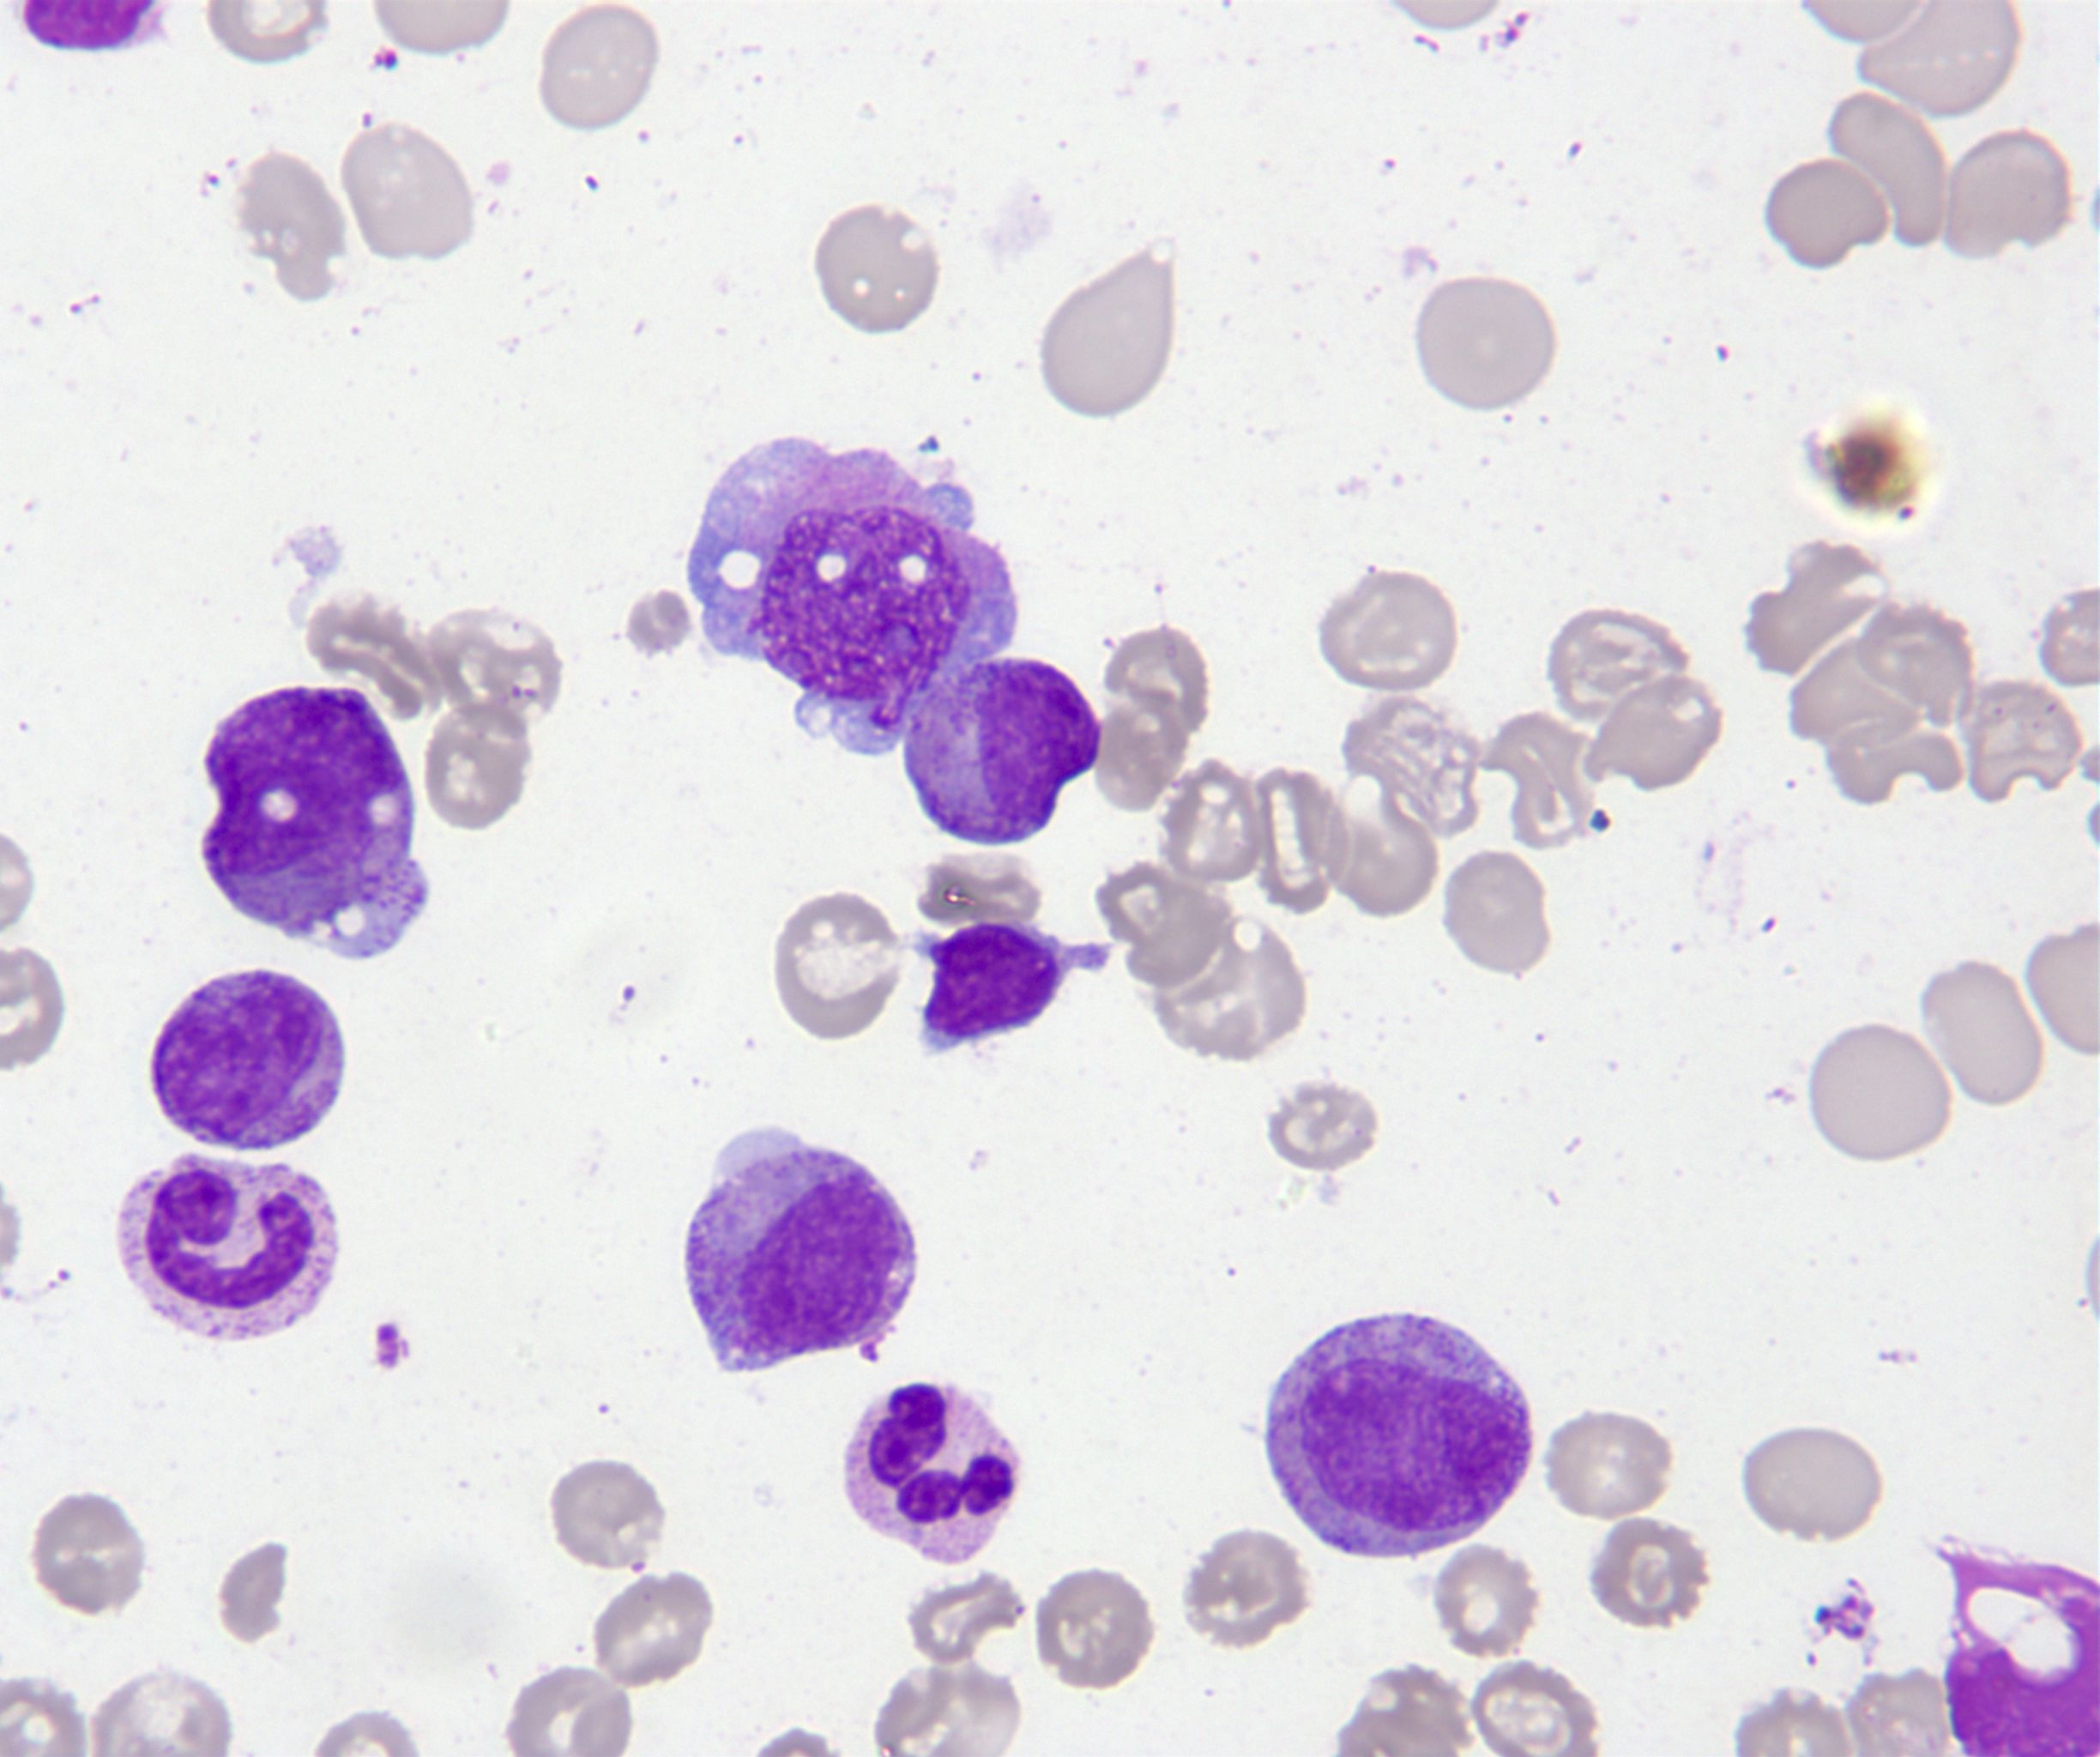3: (1265, 1305, 1540, 1567), (192, 680, 433, 967), (680, 1118, 921, 1380), (897, 653, 1106, 853), (143, 965, 354, 1157)
32: (914, 911, 1076, 1059)
5: (110, 1152, 345, 1347)
6: (841, 1375, 1034, 1574)
x: (680, 424, 1027, 761)
